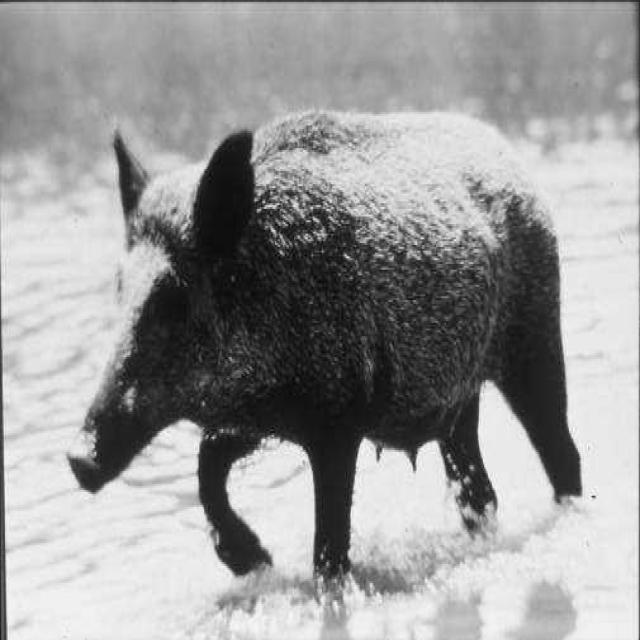boar: (70, 112, 583, 575)
